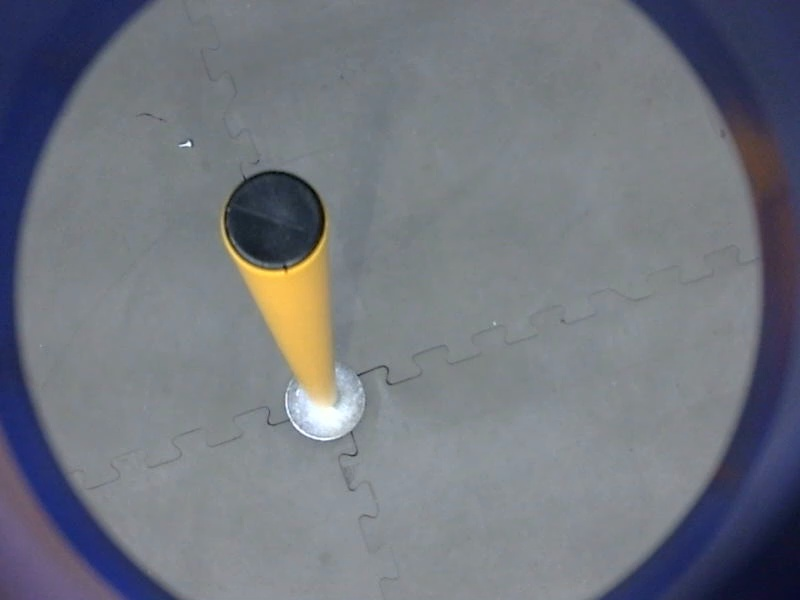tip: (214, 164, 332, 279)
